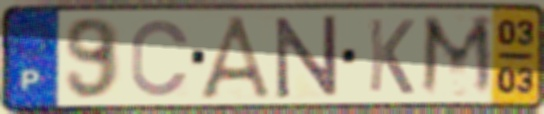9: (62, 15, 126, 103)
A: (195, 13, 280, 103)
C: (128, 16, 193, 100)
K: (365, 15, 417, 97)
M: (417, 12, 498, 100)
N: (272, 12, 341, 102)
